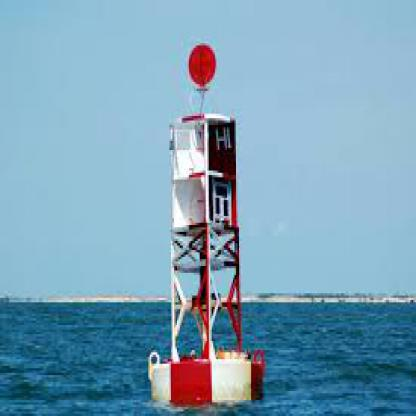buoy: (145, 34, 274, 412)
